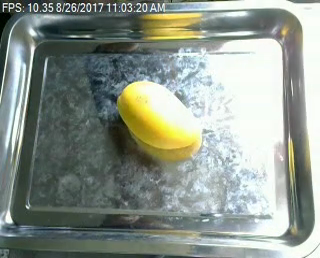Mango: (117, 79, 205, 151)
